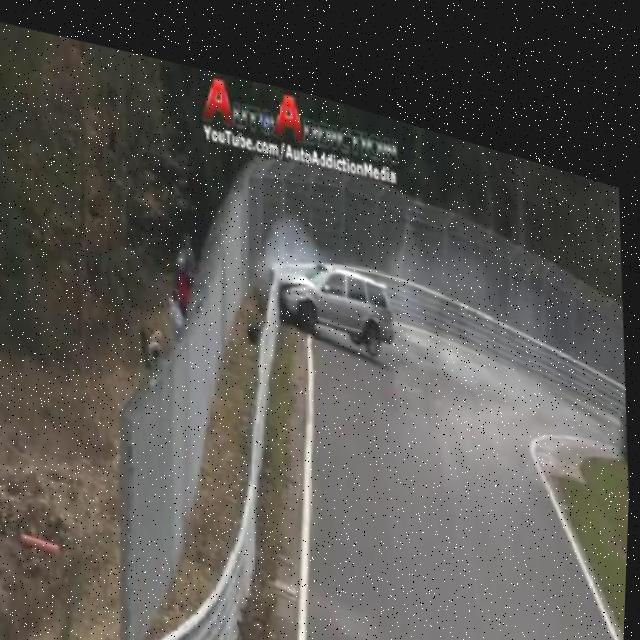Car Accident Detector - v4 Generation1 Exported: (264, 218, 405, 352)
